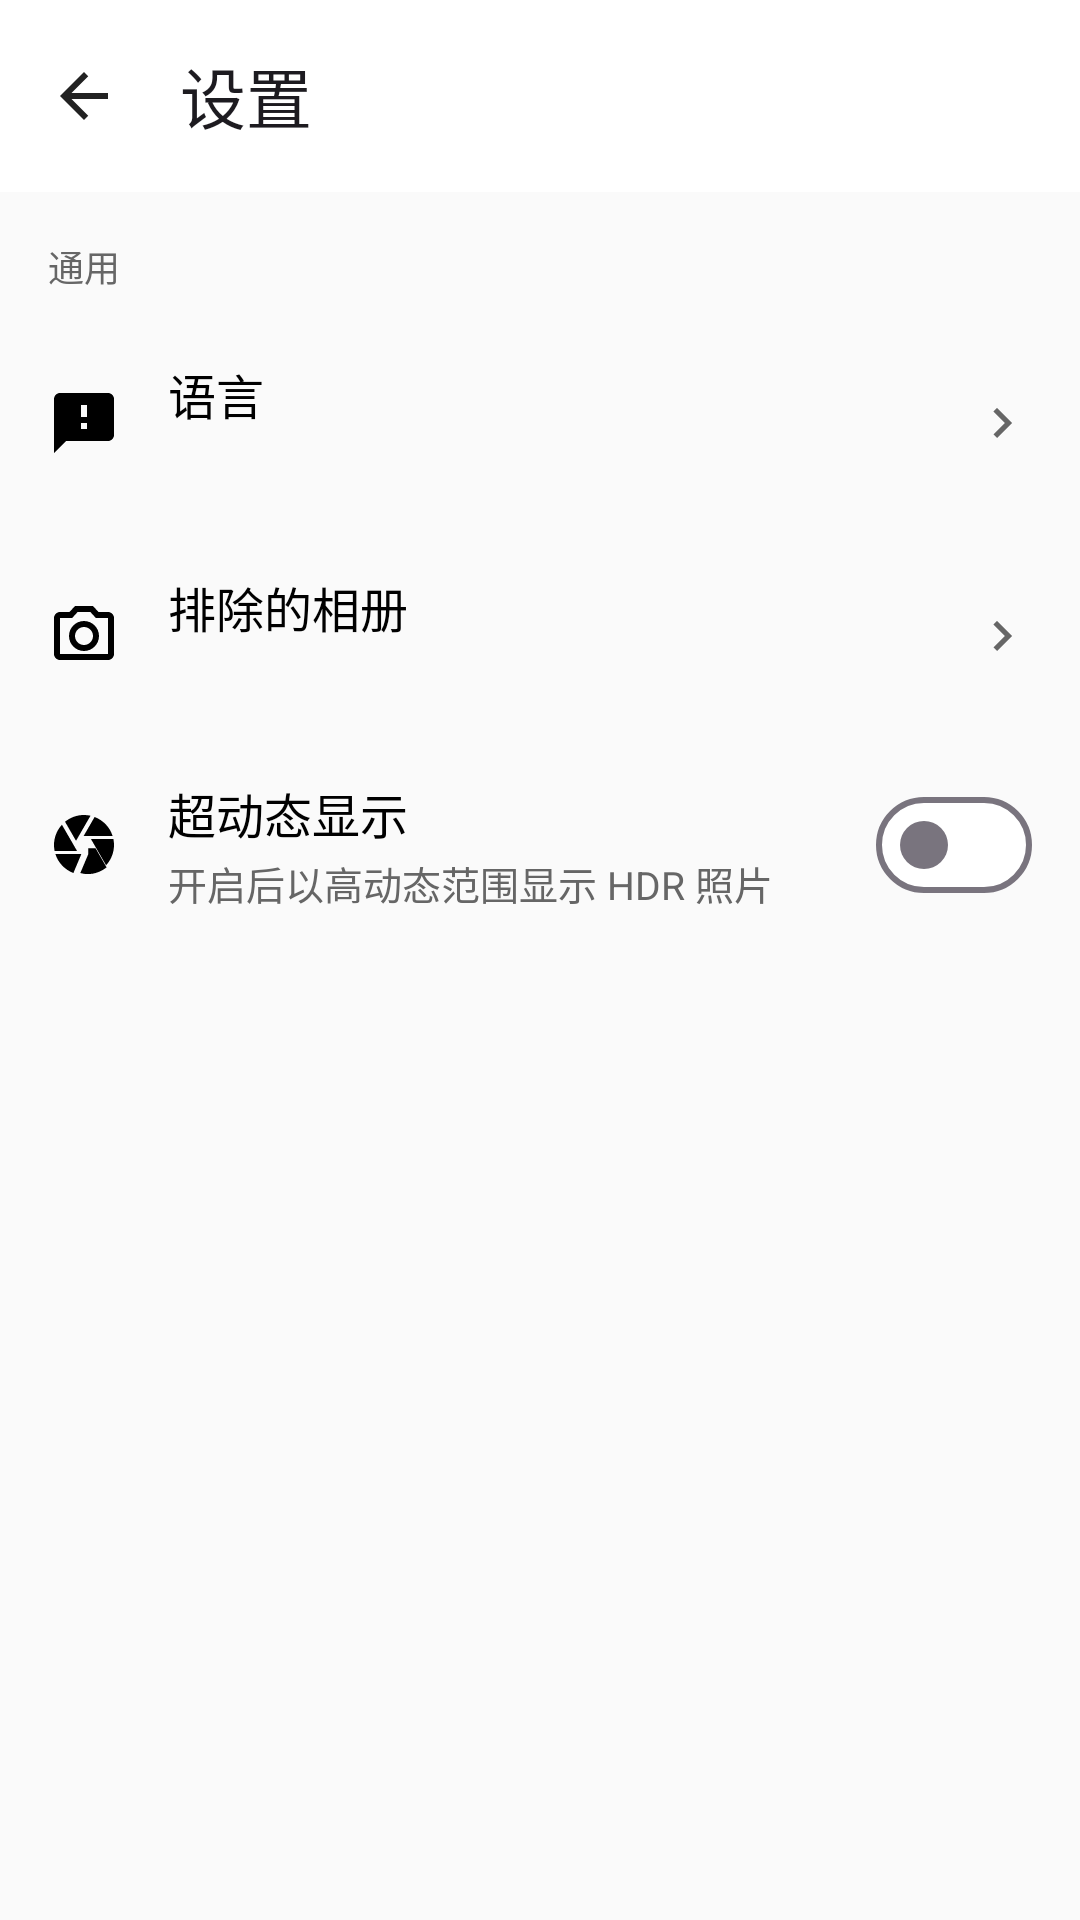

Icon click points for this 1080px x 1920px phone screenshot, format (x,y):
arrow right: (1002,423), (1002,636)
feedback: (84,423)
